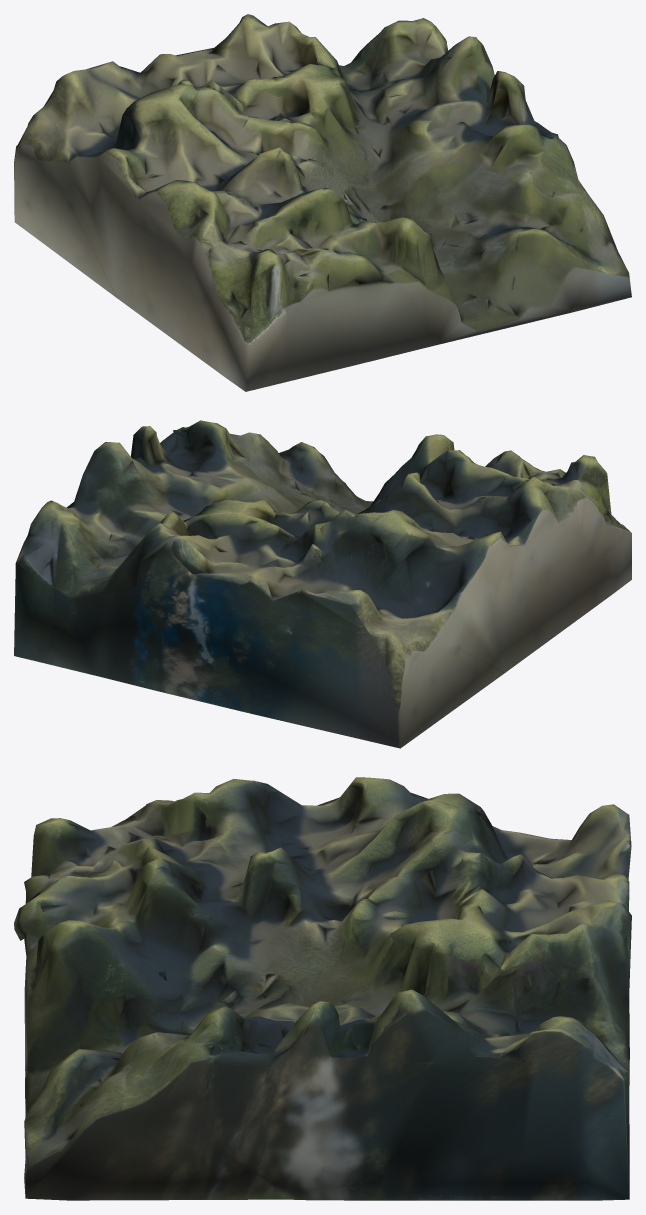
The model's file is Mountain.glb.
3 views of the same model, one above another, from view 1: azimuth 30°, elevation 25°; view 2: azimuth 150°, elevation 25°; view 3: azimuth 270°, elevation 25° (orthographic). The views are drawn at different scales.
Bounding box in the file's own units: 1.9 × 0.7515 × 2.
Materials: 1 (1 with a texture image).
